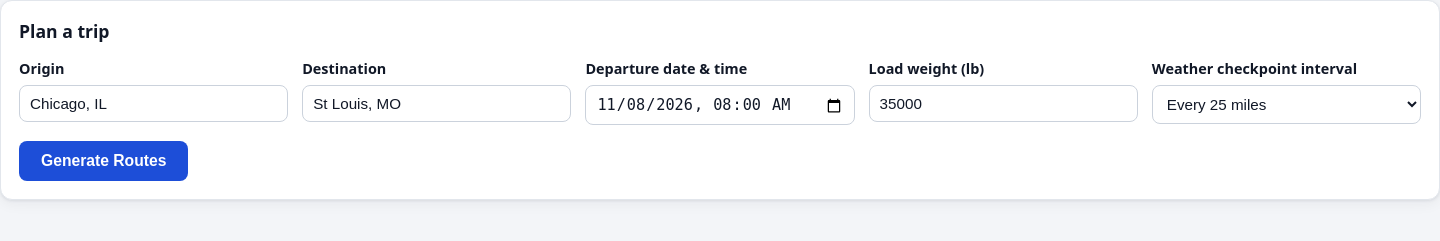
Test: TripForm validation › rejects a non-positive load weight
Replace the text in the number field labelled "Load weight (lb)" with "-5" at coordinates (1003, 104), box [869,85,1138,122]
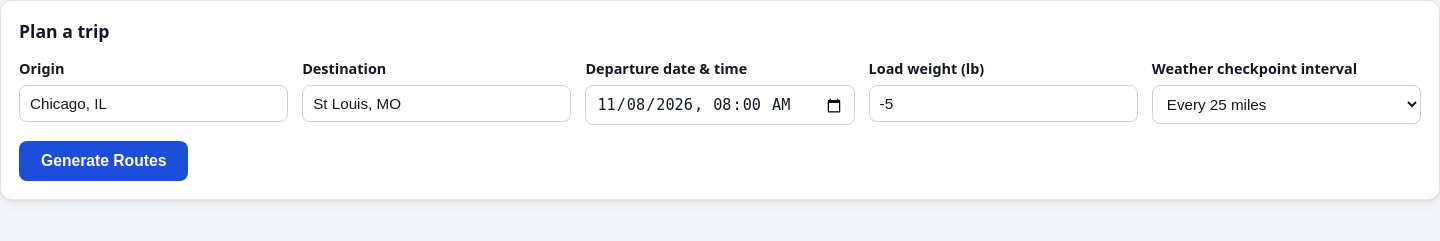
Click the button "Generate Routes" at coordinates (104, 161), box [19,141,188,181]
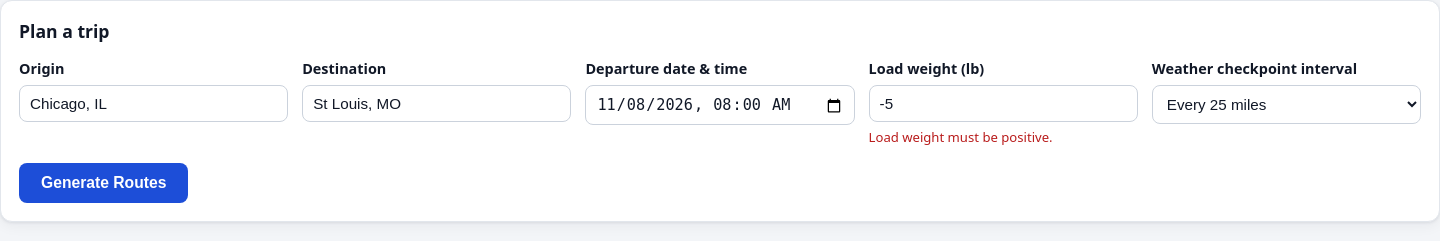
Now the text "Load weight must be positive." is shown, box [869,128,1053,146]
